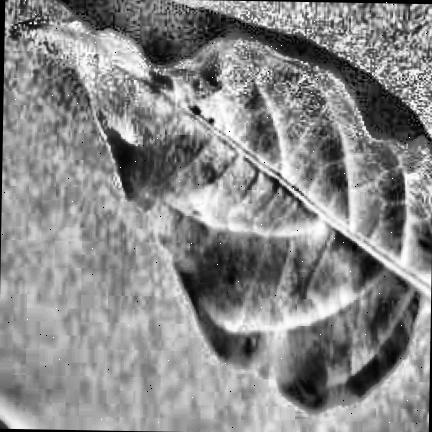leaf: (13, 21, 432, 410)
